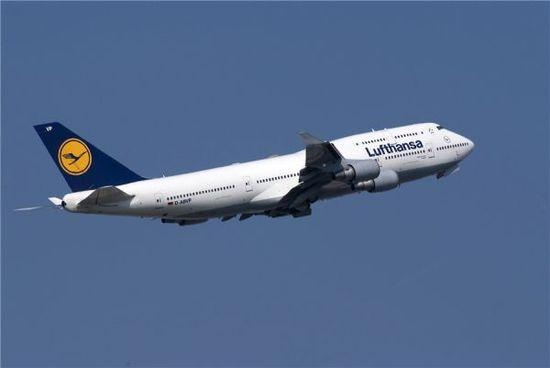airplane: (15, 113, 479, 231)
